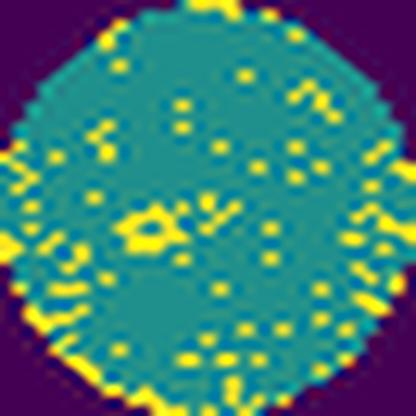Loc: (114, 195, 195, 258), (198, 188, 245, 235)
